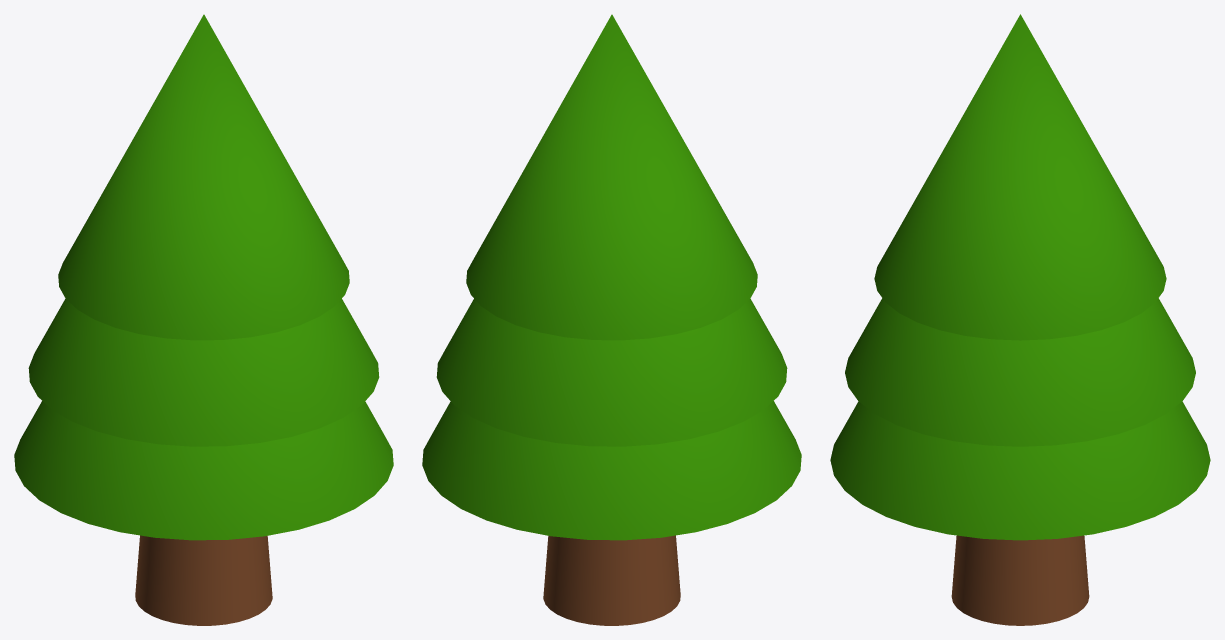
The model's file is camagac.fbx.
3 renders of one model, left to right at view 1: azimuth 30°, elevation 25°; view 2: azimuth 150°, elevation 25°; view 3: azimuth 270°, elevation 25°, orthographic.
Parts seen in each view (by area): view 1: camagac.003; view 2: camagac.003; view 3: camagac.003.
Part boxes in pixels (x1,y1,x2,y2): camagac.003: [14, 14, 393, 625]; camagac.003: [422, 14, 801, 625]; camagac.003: [830, 14, 1210, 625].
Bounding box in the file's own units: 477 × 808 × 477.
